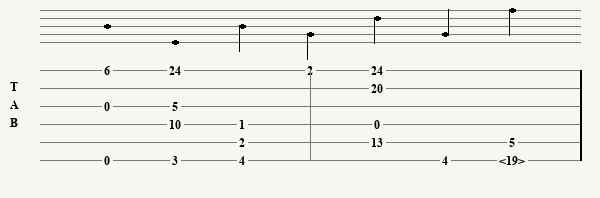0: (104, 154, 114, 167), (104, 100, 114, 113), (374, 118, 384, 131)
1: (239, 118, 249, 131)
10: (169, 118, 185, 131)
13: (371, 136, 387, 149)
2: (239, 136, 249, 149), (307, 64, 317, 77)
20: (371, 82, 387, 95)
24: (169, 64, 185, 77), (371, 64, 387, 77)
3: (172, 154, 182, 167)
4: (239, 154, 249, 167), (442, 154, 452, 167)
5: (172, 100, 182, 113), (509, 136, 519, 149)
6: (104, 64, 114, 77)
harmonic: (499, 154, 529, 167)
